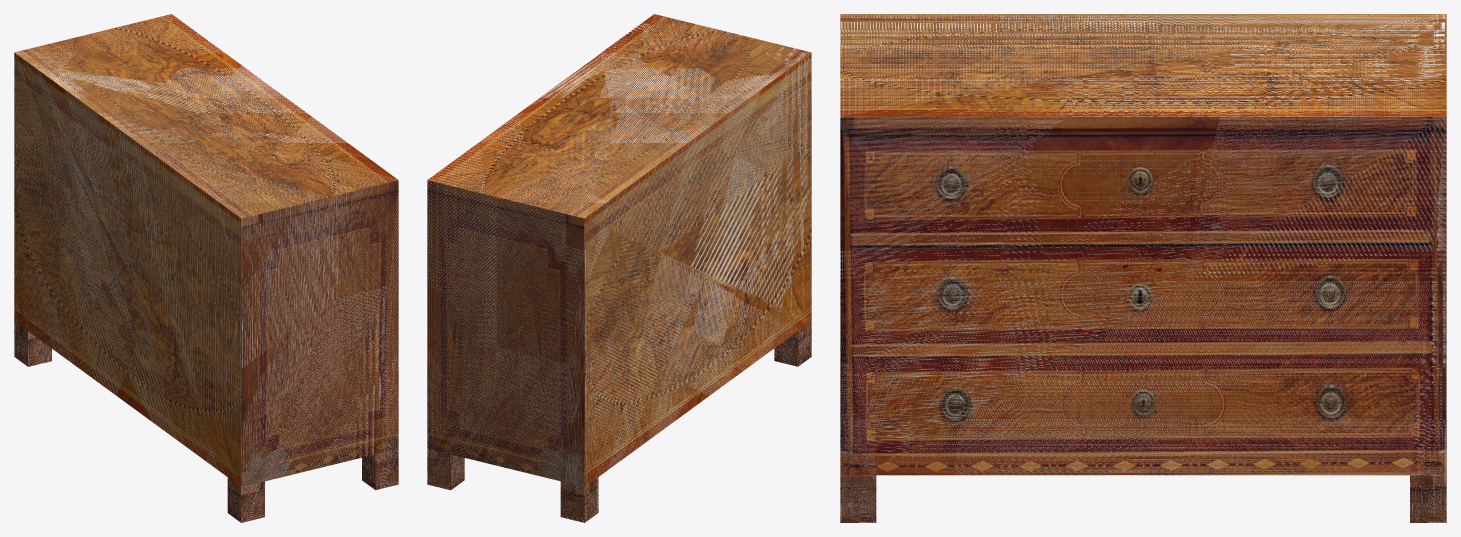
File: dresser_louis.dae
The picture shows the model from 3 angles, left to right: view 1: azimuth 30°, elevation 25°; view 2: azimuth 150°, elevation 25°; view 3: azimuth 270°, elevation 25°; orthographic projection. The views are drawn at different scales.
Parts seen in each view (by area): view 1: SketchUp (×3); view 2: SketchUp (×3); view 3: SketchUp (×4).
Boxes of the visible parts, x1=… form: SketchUp (×3): x1=14, y1=14, x2=398, y2=522; SketchUp (×3): x1=427, y1=14, x2=811, y2=522; SketchUp (×4): x1=840, y1=14, x2=1446, y2=522.
Bounding box in the file's own units: 0.4003 × 0.9995 × 0.7396.
Materials: 5 (3 with a texture image).
